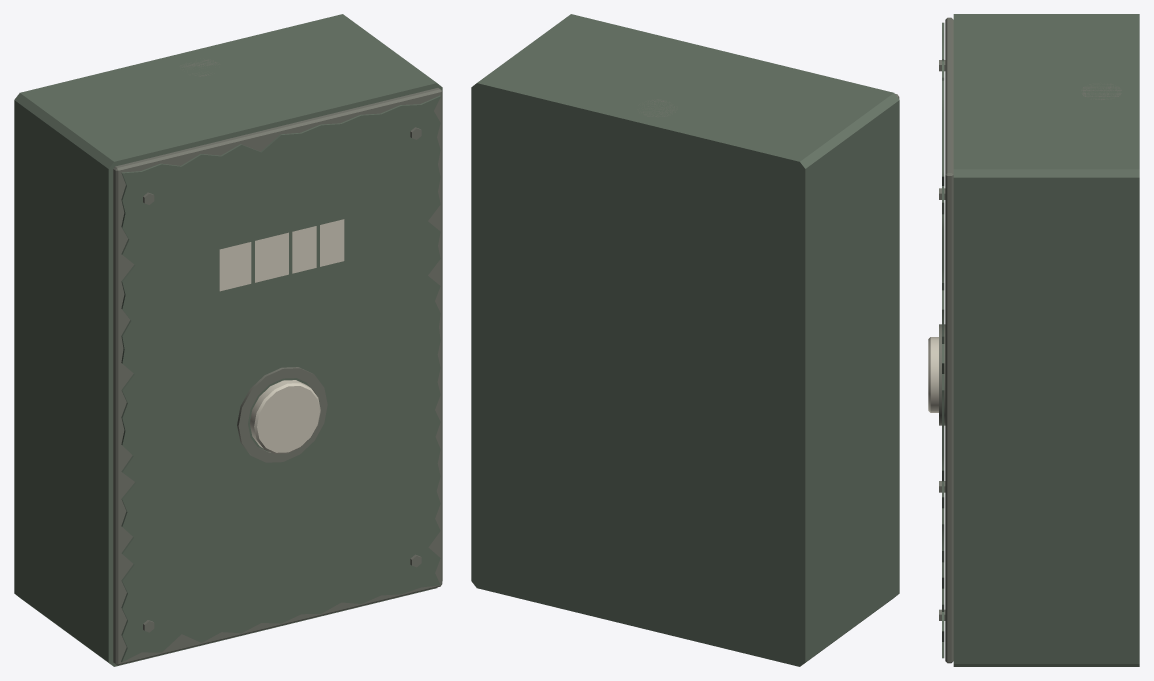
Rendered from hallway-elevator-callbox-843afeec34c6.glb.
3 renders of one model, left to right at view 1: azimuth 30°, elevation 25°; view 2: azimuth 150°, elevation 25°; view 3: azimuth 270°, elevation 25°, orthographic.
Visible parts, largest first — view 1: paint-hall-lift, steel-hall-edge, decal-ink, enamel; view 2: paint-hall-lift; view 3: paint-hall-lift, steel-hall-edge, enamel.
Part boxes in pixels (bbox=[...]): paint-hall-lift: bbox=[14, 14, 442, 666]; steel-hall-edge: bbox=[113, 59, 442, 665]; decal-ink: bbox=[219, 219, 344, 291]; enamel: bbox=[249, 380, 320, 453]; paint-hall-lift: bbox=[471, 14, 899, 666]; paint-hall-lift: bbox=[942, 14, 1139, 666]; steel-hall-edge: bbox=[939, 17, 1121, 663]; enamel: bbox=[928, 337, 938, 412].
Bounding box in the file's own units: 0.18 × 0.26 × 0.1.
